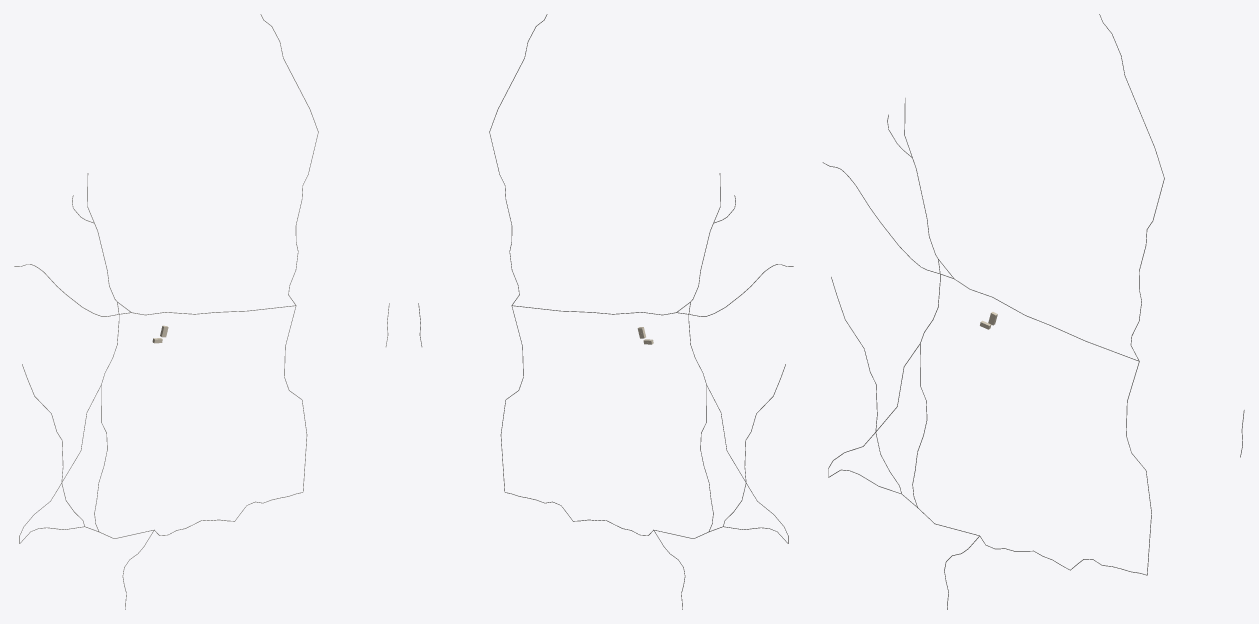
The model's file is historic-palestine-07_30_3489_3241.glb.
3 renders of one model, left to right at view 1: azimuth 30°, elevation 25°; view 2: azimuth 150°, elevation 25°; view 3: azimuth 330°, elevation 25°, orthographic. The views are drawn at different scales.
Size of the model in its own units: 925 by 1325 by 8.7.
